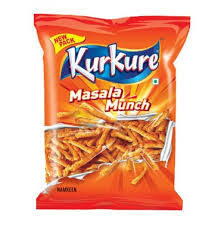kurkure: (67, 44, 146, 80)
plastic: (38, 16, 179, 205)
wrapper: (30, 8, 197, 216)
